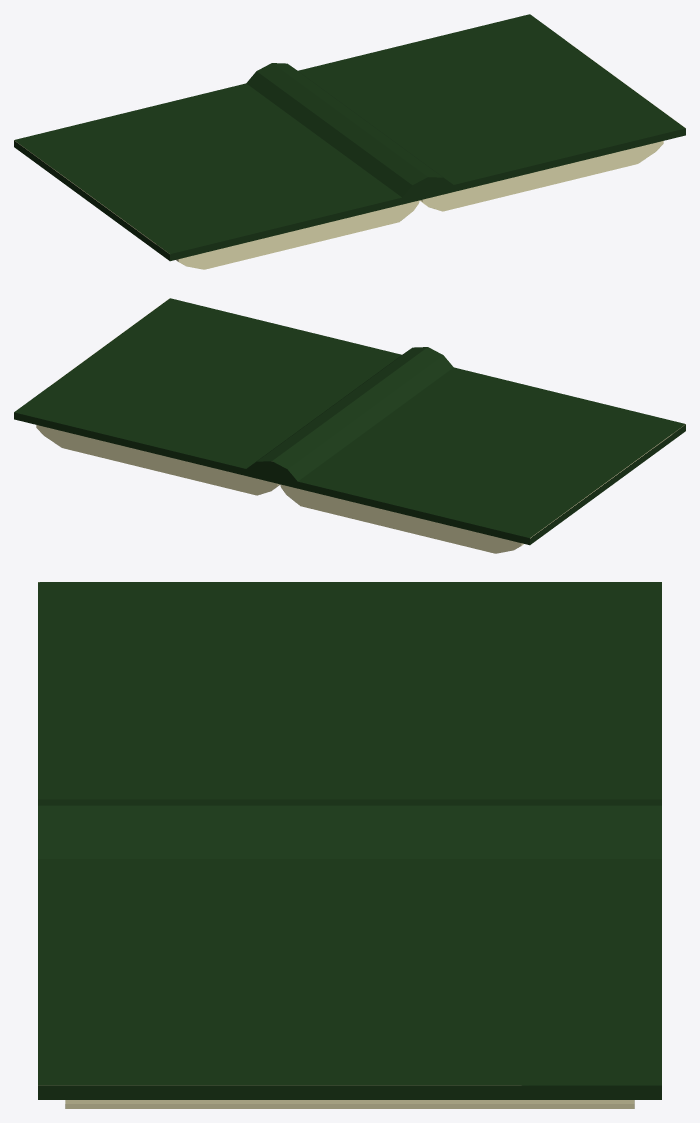
Rendered from OpenBook 2.fbx.
3 views of the same model, one above another, from view 1: azimuth 30°, elevation 25°; view 2: azimuth 150°, elevation 25°; view 3: azimuth 270°, elevation 25° (orthographic). The views are drawn at different scales.
Visible parts, largest first — view 1: Book.002; view 2: Book.002; view 3: Book.002.
Boxes of the visible parts, x1,y1,x2,y2 form: Book.002: [14, 14, 685, 269]; Book.002: [14, 298, 685, 553]; Book.002: [38, 582, 661, 1108].
Size of the model in its own units: 38.19 by 3.17 by 20.
